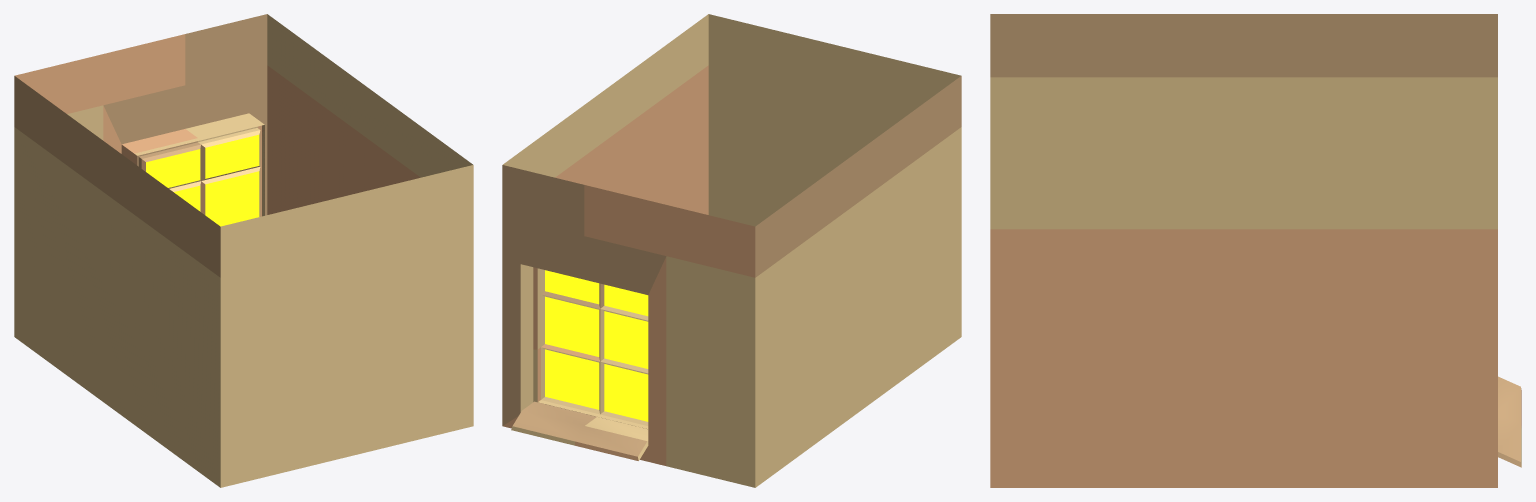
File: house_normal.fbx
3 views of the same model, side by side, from view 1: azimuth 30°, elevation 25°; view 2: azimuth 150°, elevation 25°; view 3: azimuth 270°, elevation 25° (orthographic). The views are drawn at different scales.
Parts seen in each view (by area): view 1: polySurface1; view 2: polySurface1; view 3: polySurface1.
Boxes of the visible parts, left/top/right/bottom form: polySurface1: left=14, top=14, right=473, bottom=487; polySurface1: left=502, top=14, right=961, bottom=487; polySurface1: left=990, top=14, right=1521, bottom=487.
Size of the model in its own units: 3.92 by 3.88 by 5.8.
